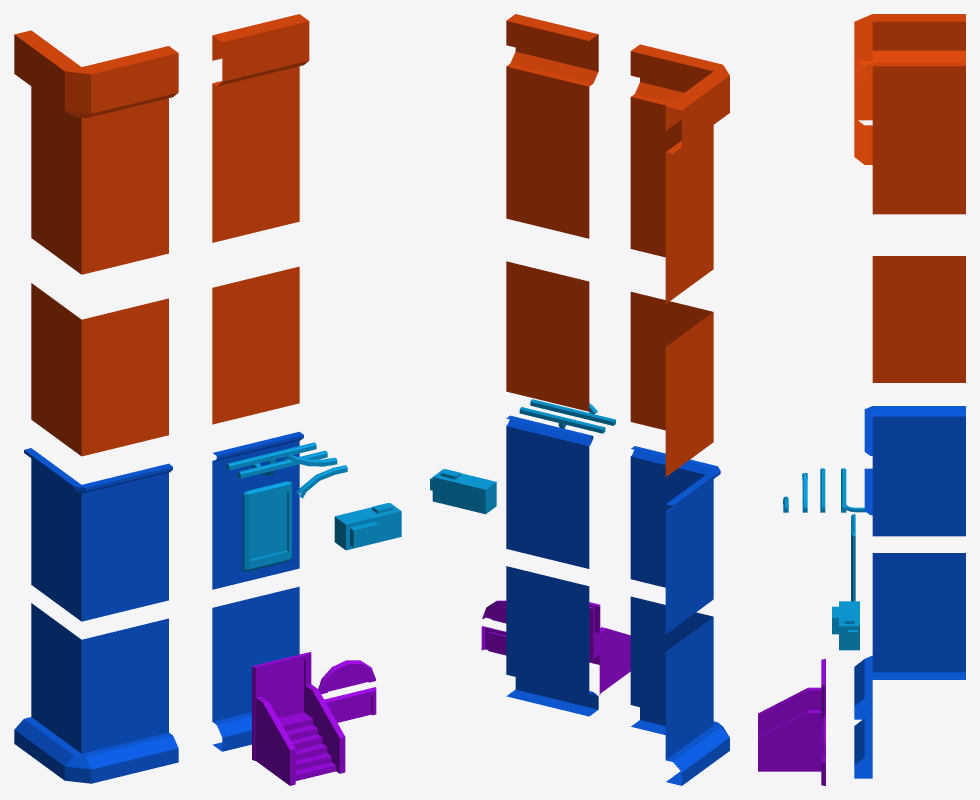
The model's file is SHRED2DEATH_ModularBuildingAsset(PACK_ONE).fbx.
The picture shows the model from 3 angles, left to right: view 1: azimuth 30°, elevation 25°; view 2: azimuth 150°, elevation 25°; view 3: azimuth 270°, elevation 25°; orthographic projection. The views are drawn at different scales.
Parts seen in each view (by area): view 1: ModularBuilding_TOPCorner, ModularBuilding_BASECorner, ModularBuilding_MIDCorner, ModularBuilding_MIDCorner_NOLIP, ModularBuilding_TOPStraight, ModularBuilding_MIDStraight_NOLIP, ModularBuilding_DECODoorway, ModularBuilding_BASEStraight, ModularBuilding_MIDStraight, ModularBuilding_DECO_Window, ModularBuilding_DECO_AC, ModularBuilding_DECODoorway_WindowTwo (+2 smaller); view 2: ModularBuilding_TOPCorner, ModularBuilding_TOPStraight, ModularBuilding_BASECorner, ModularBuilding_MIDCorner, ModularBuilding_MIDCorner_NOLIP, ModularBuilding_MIDStraight, ModularBuilding_BASEStraight, ModularBuilding_MIDStraight_NOLIP, ModularBuilding_DECODoorway, ModularBuilding_DECO_AC, ModularBuilding_GRINDRAILAttached, ModularBuilding_GRINDRAILStraight (+1 smaller); view 3: ModularBuilding_TOPCorner, ModularBuilding_BASECorner, ModularBuilding_MIDCorner, ModularBuilding_MIDCorner_NOLIP, ModularBuilding_DECODoorway, ModularBuilding_TOPStraight, ModularBuilding_DECO_AC, ModularBuilding_BASEStraight, ModularBuilding_DECO_Window, ModularBuilding_MIDStraight.
Part boxes in pixels (left/top/right/bottom): ModularBuilding_TOPCorner: left=14, top=30, right=178, bottom=274; ModularBuilding_BASECorner: left=14, top=603, right=178, bottom=783; ModularBuilding_MIDCorner: left=24, top=448, right=172, bottom=621; ModularBuilding_MIDCorner_NOLIP: left=31, top=283, right=168, bottom=456; ModularBuilding_TOPStraight: left=212, top=14, right=309, bottom=242; ModularBuilding_MIDStraight_NOLIP: left=212, top=266, right=299, bottom=424; ModularBuilding_DECODoorway: left=252, top=652, right=345, bottom=785; ModularBuilding_BASEStraight: left=212, top=586, right=299, bottom=751; ModularBuilding_MIDStraight: left=212, top=431, right=303, bottom=589; ModularBuilding_DECO_Window: left=242, top=481, right=291, bottom=571; ModularBuilding_DECO_AC: left=334, top=503, right=401, bottom=550; ModularBuilding_DECODoorway_WindowTwo: left=324, top=687, right=376, bottom=722; ModularBuilding_TOPCorner: left=630, top=44, right=729, bottom=303; ModularBuilding_TOPStraight: left=506, top=14, right=598, bottom=238; ModularBuilding_BASECorner: left=630, top=596, right=729, bottom=785; ModularBuilding_MIDCorner: left=630, top=446, right=720, bottom=634; ModularBuilding_MIDCorner_NOLIP: left=630, top=292, right=713, bottom=476; ModularBuilding_MIDStraight: left=506, top=415, right=593, bottom=568; ModularBuilding_BASEStraight: left=506, top=566, right=598, bottom=716; ModularBuilding_MIDStraight_NOLIP: left=506, top=261, right=589, bottom=411; ModularBuilding_DECODoorway: left=589, top=602, right=630, bottom=695; ModularBuilding_DECO_AC: left=430, top=469, right=496, bottom=514; ModularBuilding_GRINDRAILAttached: left=519, top=407, right=605, bottom=433; ModularBuilding_GRINDRAILStraight: left=530, top=399, right=615, bottom=425; ModularBuilding_TOPCorner: left=854, top=14, right=965, bottom=214; ModularBuilding_BASECorner: left=854, top=553, right=965, bottom=719; ModularBuilding_MIDCorner: left=864, top=406, right=965, bottom=536; ModularBuilding_MIDCorner_NOLIP: left=872, top=256, right=965, bottom=382; ModularBuilding_DECODoorway: left=758, top=659, right=825, bottom=771; ModularBuilding_TOPStraight: left=854, top=81, right=872, bottom=164; ModularBuilding_DECO_AC: left=832, top=601, right=859, bottom=650; ModularBuilding_BASEStraight: left=854, top=718, right=872, bottom=778; ModularBuilding_DECO_Window: left=851, top=514, right=855, bottom=601; ModularBuilding_MIDStraight: left=864, top=468, right=872, bottom=515.
Size of the model in its own units: 0.7402 by 1.56 by 0.4452.
